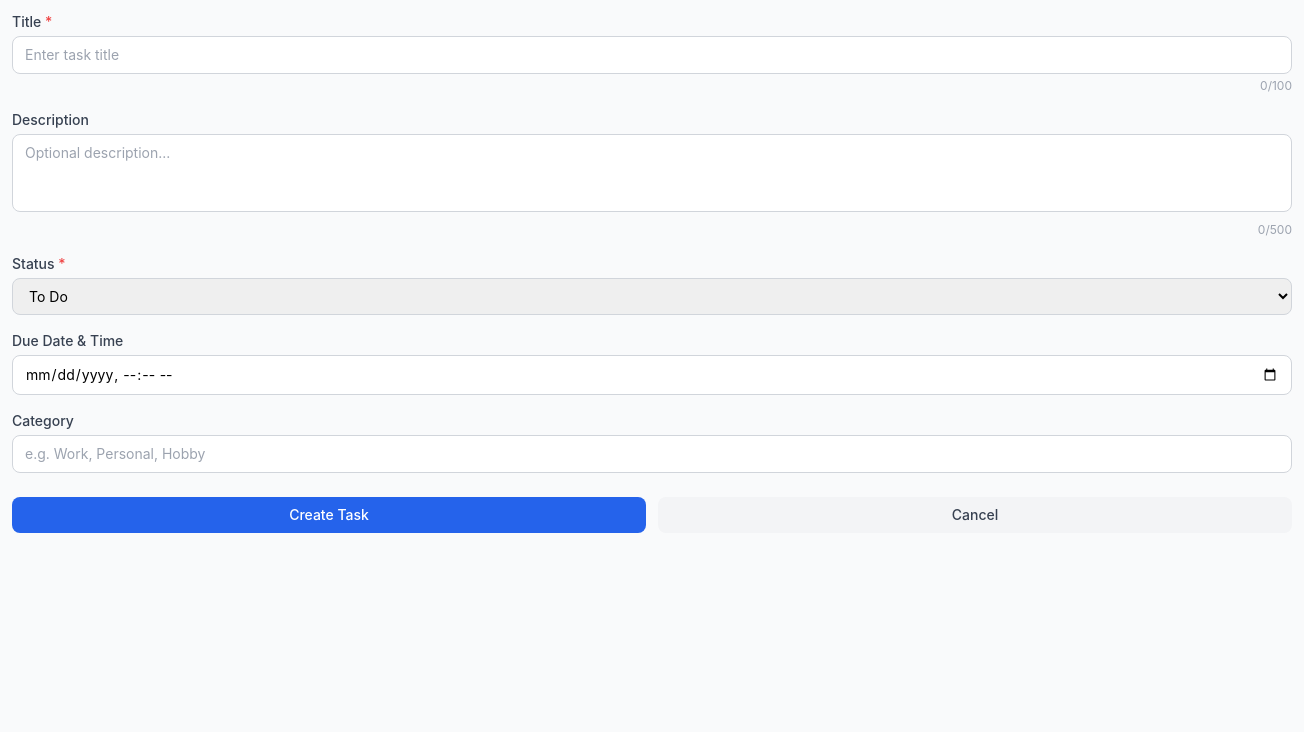
Test case: TaskForm › validation › shows error when title is empty on submit
Click the button "Create Task".
click(329, 515)  # box x1=12 y1=497 x2=646 y2=533
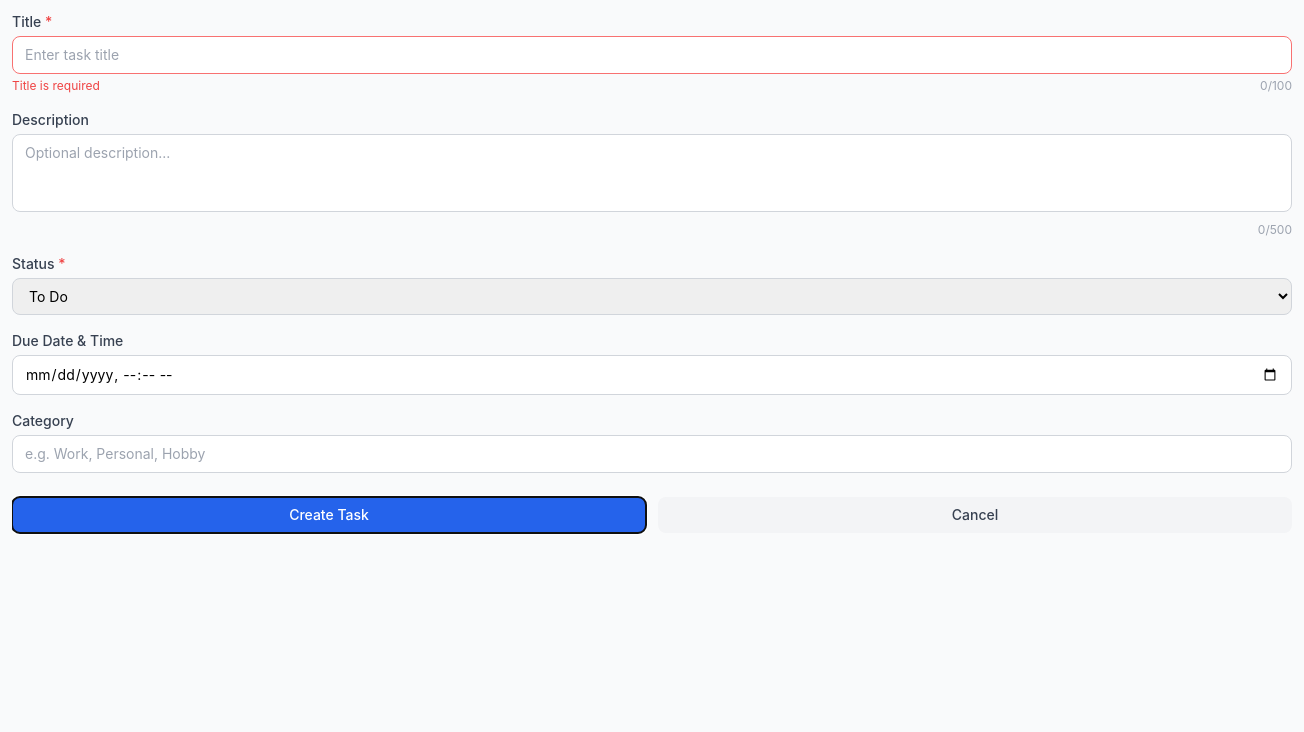
Expected: the text "Title is required" is shown, x1=12 y1=78 x2=100 y2=94
